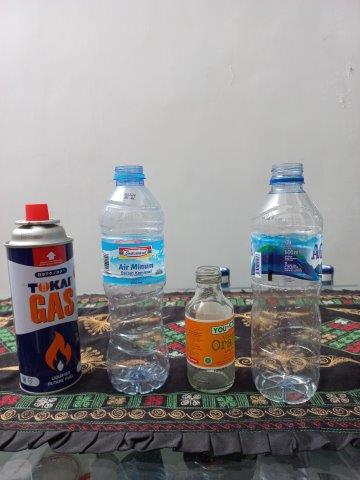botolkaca: (185, 267, 237, 393)
botolplastik: (253, 164, 323, 403), (100, 164, 170, 393)
kaleng: (5, 204, 84, 394)
